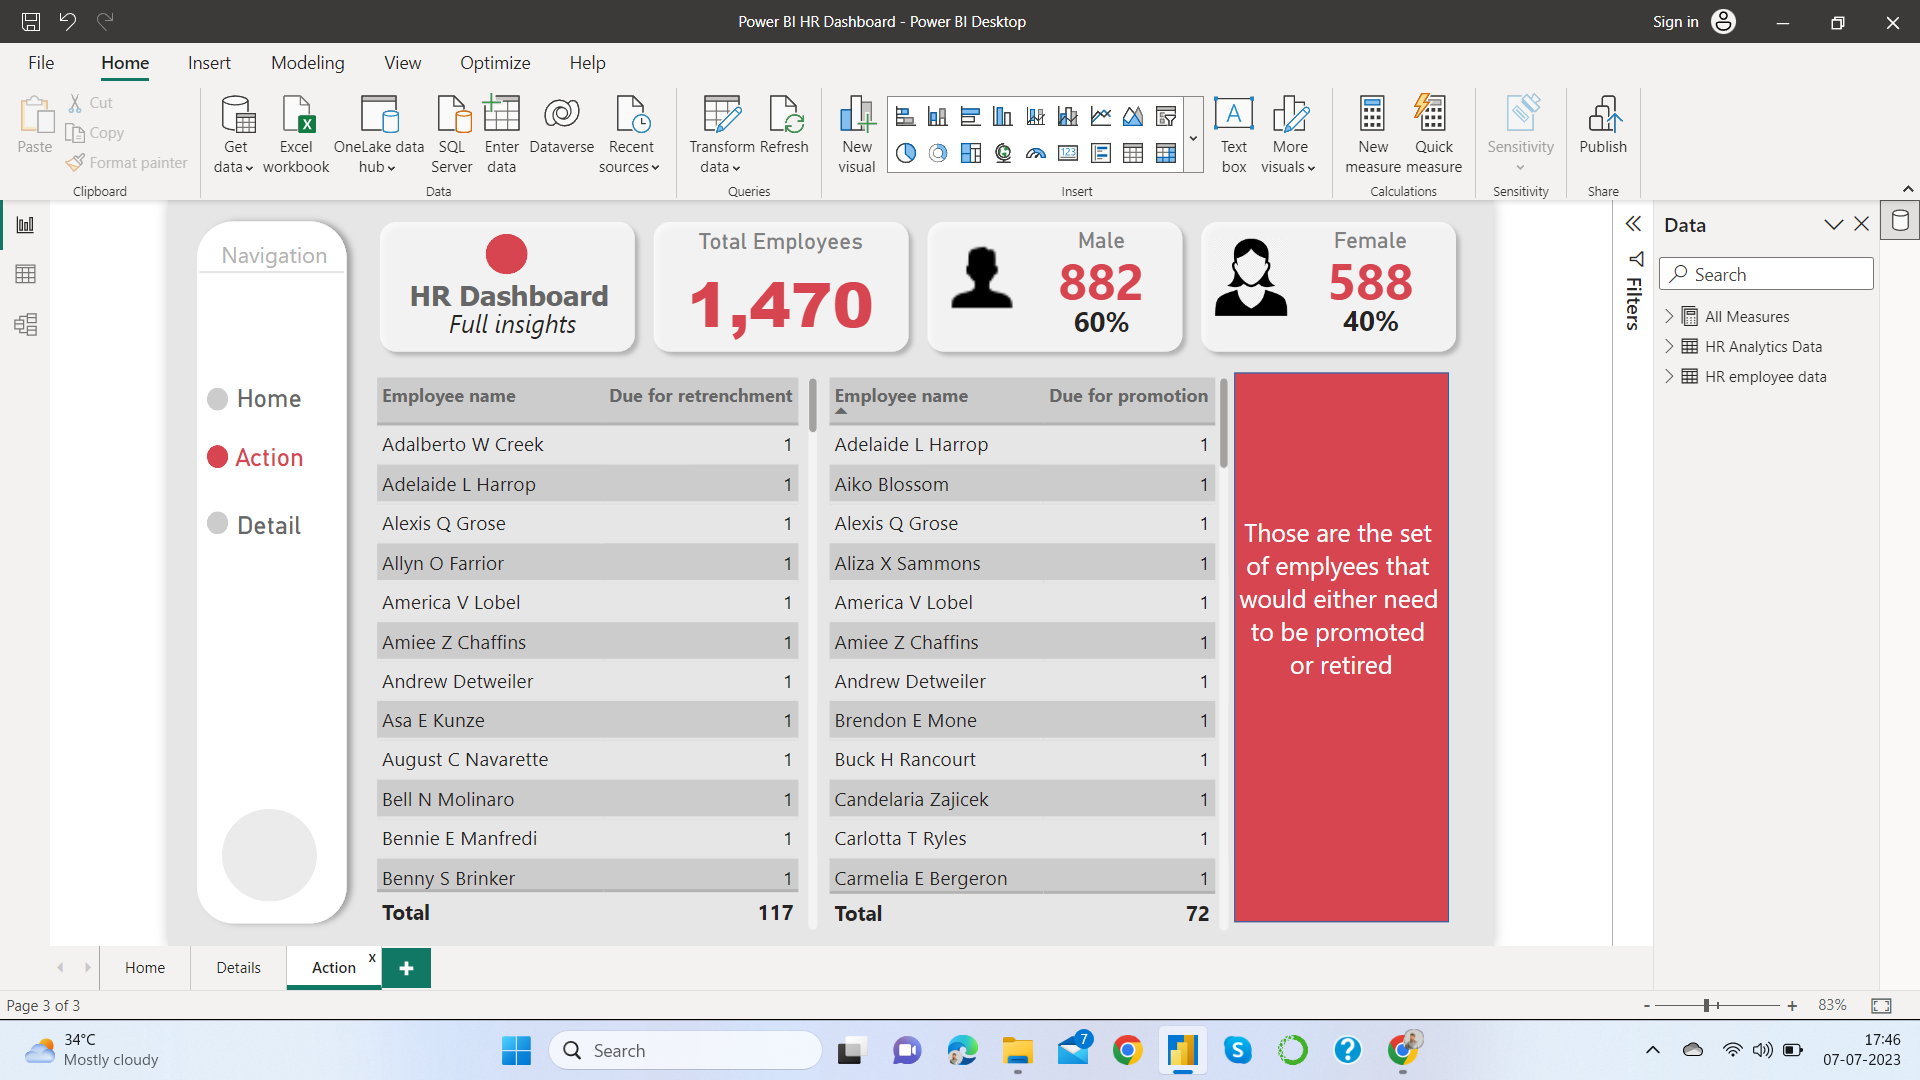

What the dashboard file says about the page in this screenshot:
{"tool":"powerbi","page":{"name":"Action","canvas":[1280,720],"ordinal":2},"visuals":[{"type":"shape","box":[1028.6,166.2,207,530.1],"z":0},{"type":"shape","box":[16.5,9.6,166.5,699.2],"z":1000},{"type":"shape","box":[195.4,12.4,264.3,143.1],"z":2000},{"type":"shape","box":[459.7,12.4,264.3,143.1],"z":3000},{"type":"shape","box":[724,12.4,264.3,143.1],"z":4000},{"type":"shape","box":[988.2,12.4,264.3,143.1],"z":5000},{"type":"textbox","box":[209.7,71.2,238.7,51.4],"z":6000},{"type":"textbox","box":[36.9,33,130.5,51.4],"z":7000},{"type":"textbox","box":[209.7,97.6,251.9,55.4],"z":8000},{"type":"shape","box":[305.9,33,40.9,39.6],"z":9000},{"type":"card","title":"Total Employees","fields":{"Values":["All Measures.Total Emp"]},"box":[468,27.5,246.4,112.9],"z":10000},{"type":"card","title":"Male","fields":{"Values":["All Measures.Male"]},"box":[814.8,26.2,170.7,75.7],"z":11000},{"type":"card","fields":{"Values":["All Measures.Male %"]},"box":[834.1,90.8,132.1,55.1],"z":12000},{"type":"card","title":"Female","fields":{"Values":["All Measures.Female"]},"box":[1068.7,26.2,183.1,75.7],"z":13000},{"type":"card","fields":{"Values":["All Measures.Female %"]},"box":[1083.9,90.8,152.8,53.7],"z":14000},{"type":"image","box":[736.3,26.2,95,90.8],"z":15000},{"type":"image","box":[1004.7,33,79.8,84],"z":16000},{"type":"tableEx","fields":{"Values":["HR employee data.Emplyee name","All Measures.Due for retirment"]},"box":[195.4,166.5,436.3,542.3],"z":17000},{"type":"tableEx","fields":{"Values":["HR employee data.Emplyee name","All Measures.Due for promotion"]},"box":[631.7,166.5,396.4,543.7],"z":18000},{"type":"textbox","box":[1029.3,299.6,206.6,217.4],"z":19000},{"type":"shape","box":[36.9,300.7,21.1,22.4],"z":20000},{"type":"actionButton","title":"Detail","box":[27.7,300.7,139.8,58],"z":21000},{"type":"shape","box":[36.9,236,21.1,22.4],"z":22000},{"type":"actionButton","title":"Action","box":[27.7,233.4,139.8,65.9],"z":23000},{"type":"shape","box":[36.9,180.7,21.1,22.4],"z":24000},{"type":"actionButton","title":"Home","box":[27.7,176.7,139.8,56.7],"z":25000},{"type":"shape","box":[51.4,586.8,92.3,89.7],"z":26000},{"type":"shape","box":[30.2,61.6,140.1,15.7],"z":27000}]}

Visuals, with their boxes on the page's 1280x720 design canvas (x1, y1, x2, y2). These are canvas units, not pixel positions in the 1920x1080 screenshot, which may show the page scaled, cropped or inside an application window:
shape: 1029,166,1236,696
shape: 16,10,183,709
shape: 195,12,460,156
shape: 460,12,724,156
shape: 724,12,988,156
shape: 988,12,1252,156
textbox: 210,71,448,123
textbox: 37,33,167,84
textbox: 210,98,462,153
shape: 306,33,347,73
"Total Employees" card: 468,28,714,140
"Male" card: 815,26,986,102
card - All Measures.Male %: 834,91,966,146
"Female" card: 1069,26,1252,102
card - All Measures.Female %: 1084,91,1237,144
image: 736,26,831,117
image: 1005,33,1084,117
tableEx - HR employee data.Emplyee name x All Measures.Due for retirment: 195,166,632,709
tableEx - HR employee data.Emplyee name x All Measures.Due for promotion: 632,166,1028,710
textbox: 1029,300,1236,517
shape: 37,301,58,323
"Detail" actionButton: 28,301,168,359
shape: 37,236,58,258
"Action" actionButton: 28,233,168,299
shape: 37,181,58,203
"Home" actionButton: 28,177,168,233
shape: 51,587,144,676
shape: 30,62,170,77
